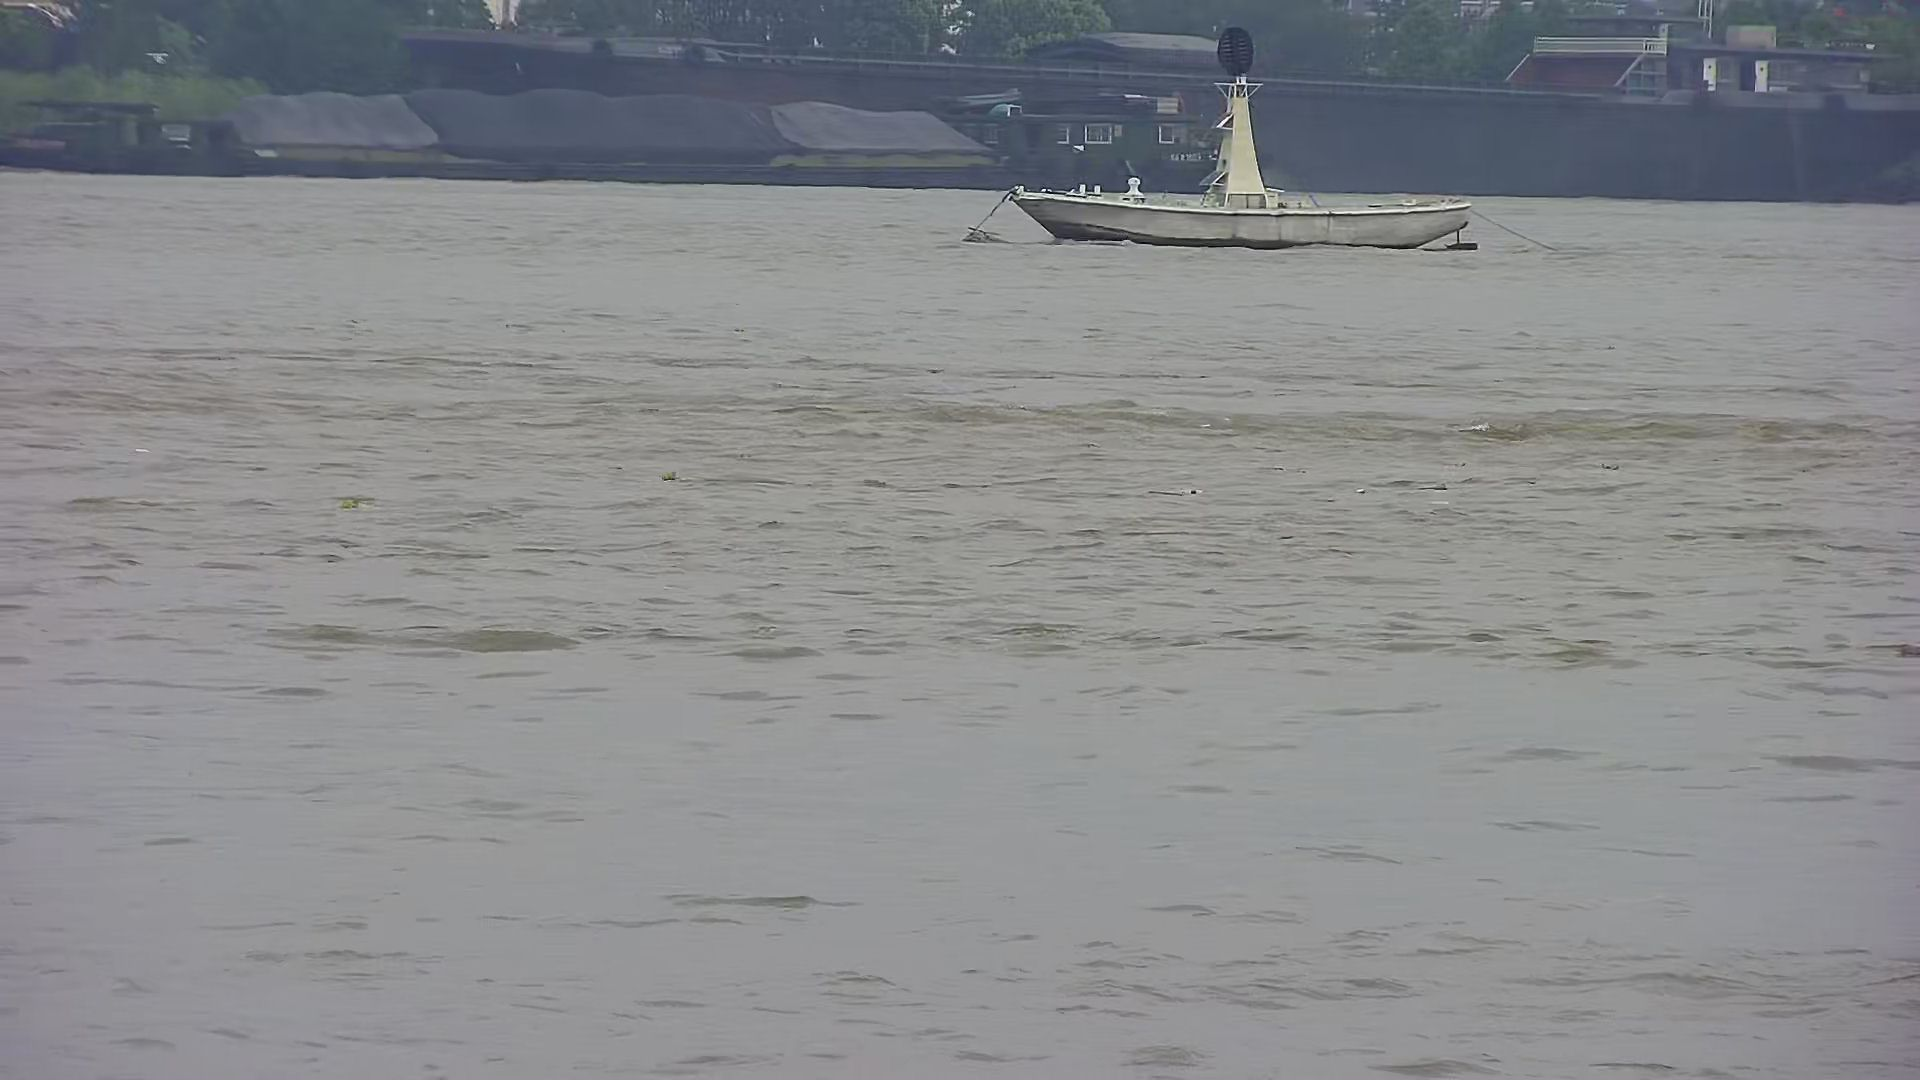boat: (1011, 44, 1497, 262)
ship: (378, 3, 1915, 214), (12, 73, 1250, 185)
